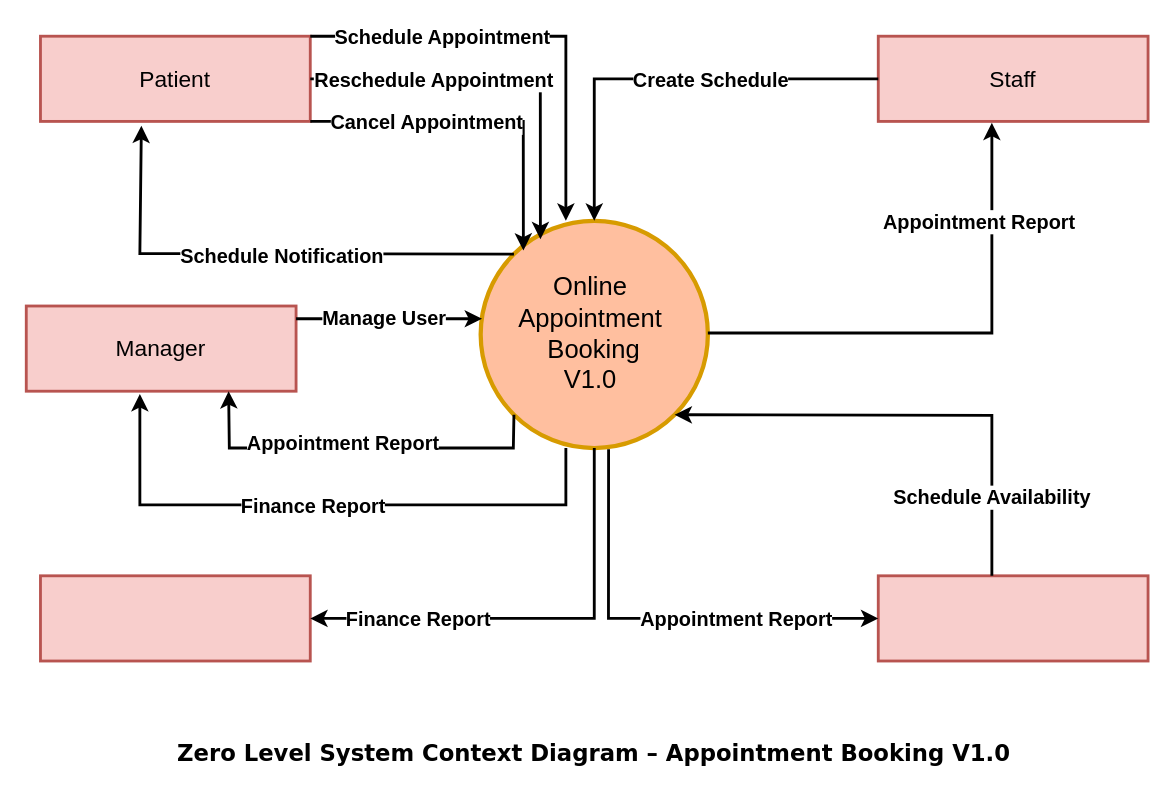
Some shapes in this 1173 by 798 pixel diagram are drawn without their labels. The centre of each missing label's shape, as x and y in pixels:
"Doctor" belongs at pixel 1012 618.
"Finance" belongs at pixel 174 618.
